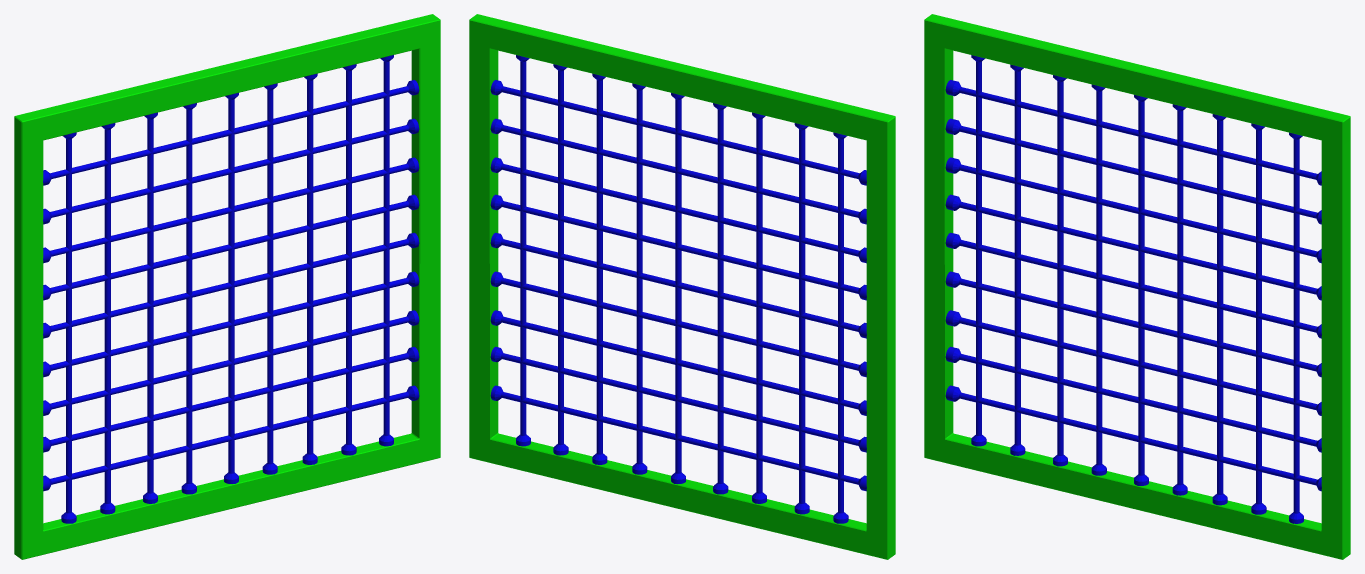
Rendered from 3D_Reja_3.fbx.
3 renders of one model, left to right at view 1: azimuth 30°, elevation 25°; view 2: azimuth 150°, elevation 25°; view 3: azimuth 330°, elevation 25°, orthographic.
Visible parts, largest first — view 1: Reja_3; view 2: Reja_3; view 3: Reja_3.
Boxes of the visible parts, x1,y1,x2,y2 form: Reja_3: (14,14,440,559); Reja_3: (469,14,895,559); Reja_3: (924,14,1350,559).
Size of the model in its own units: 300 by 300 by 10.
